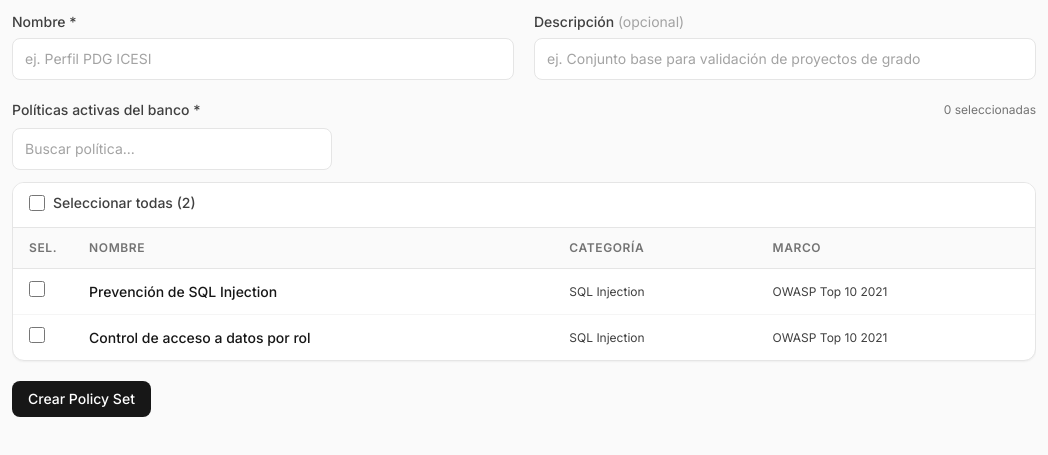
Scenario: PolicySetCreateForm › requires a name before submitting
Expected: the text "Prevención de SQL Injection" is shown, [73,269,553,314]
Click the checkbox named "Prevención de SQL Injection".
click(37, 289)  # box [29,281,45,297]
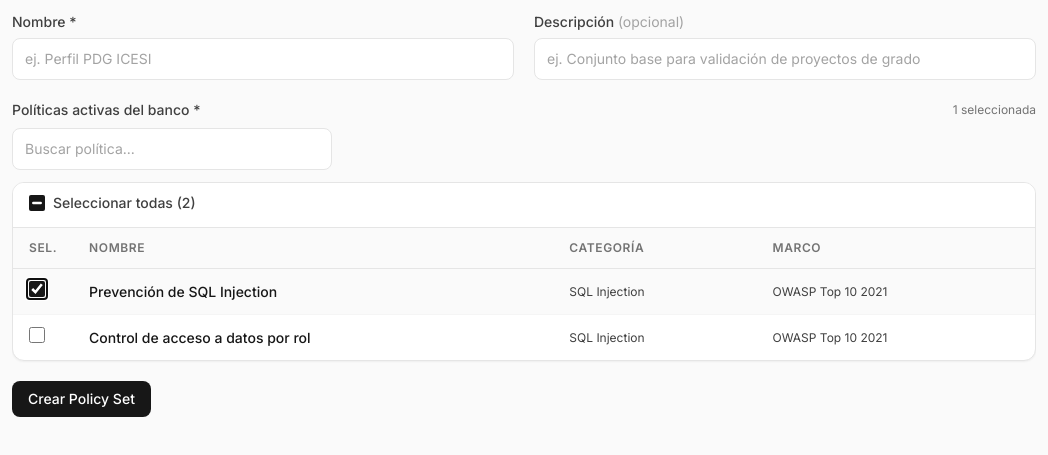
Click the button "Crear Policy Set".
click(81, 399)  # box [12,381,151,417]
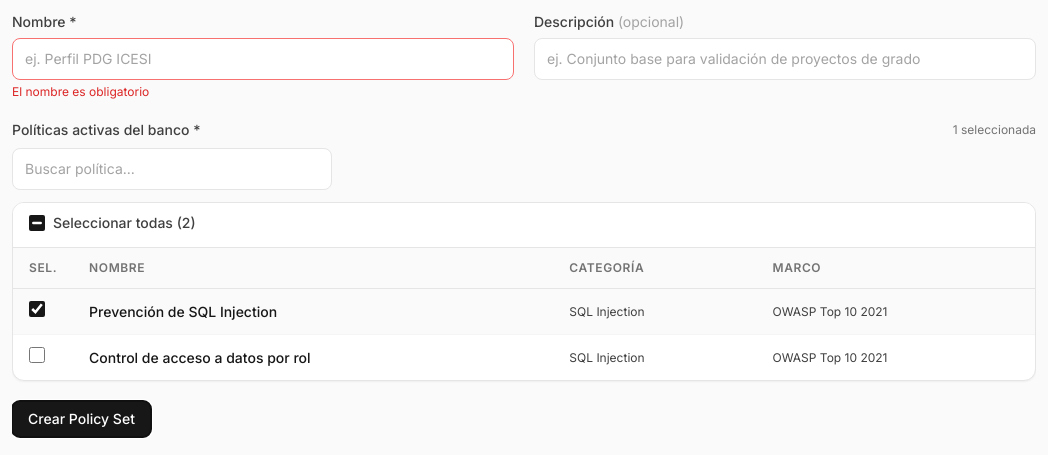
Result: the text "El nombre es obligatorio" is shown at [12,84,149,99]
